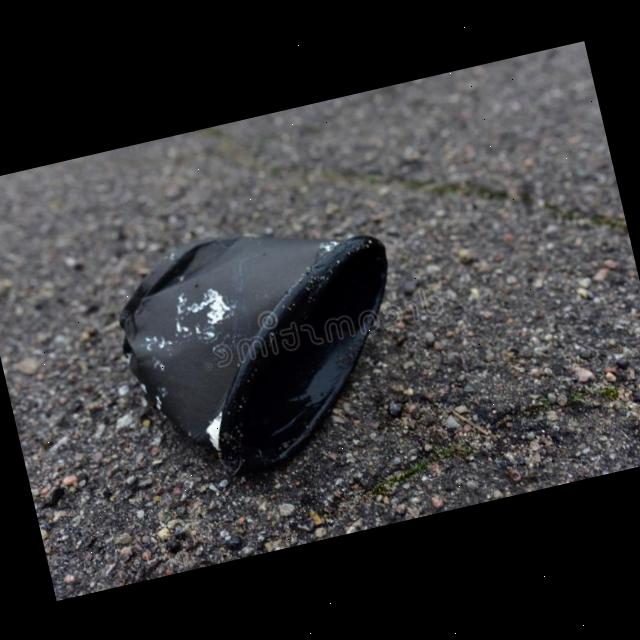trash: (100, 198, 429, 494)
